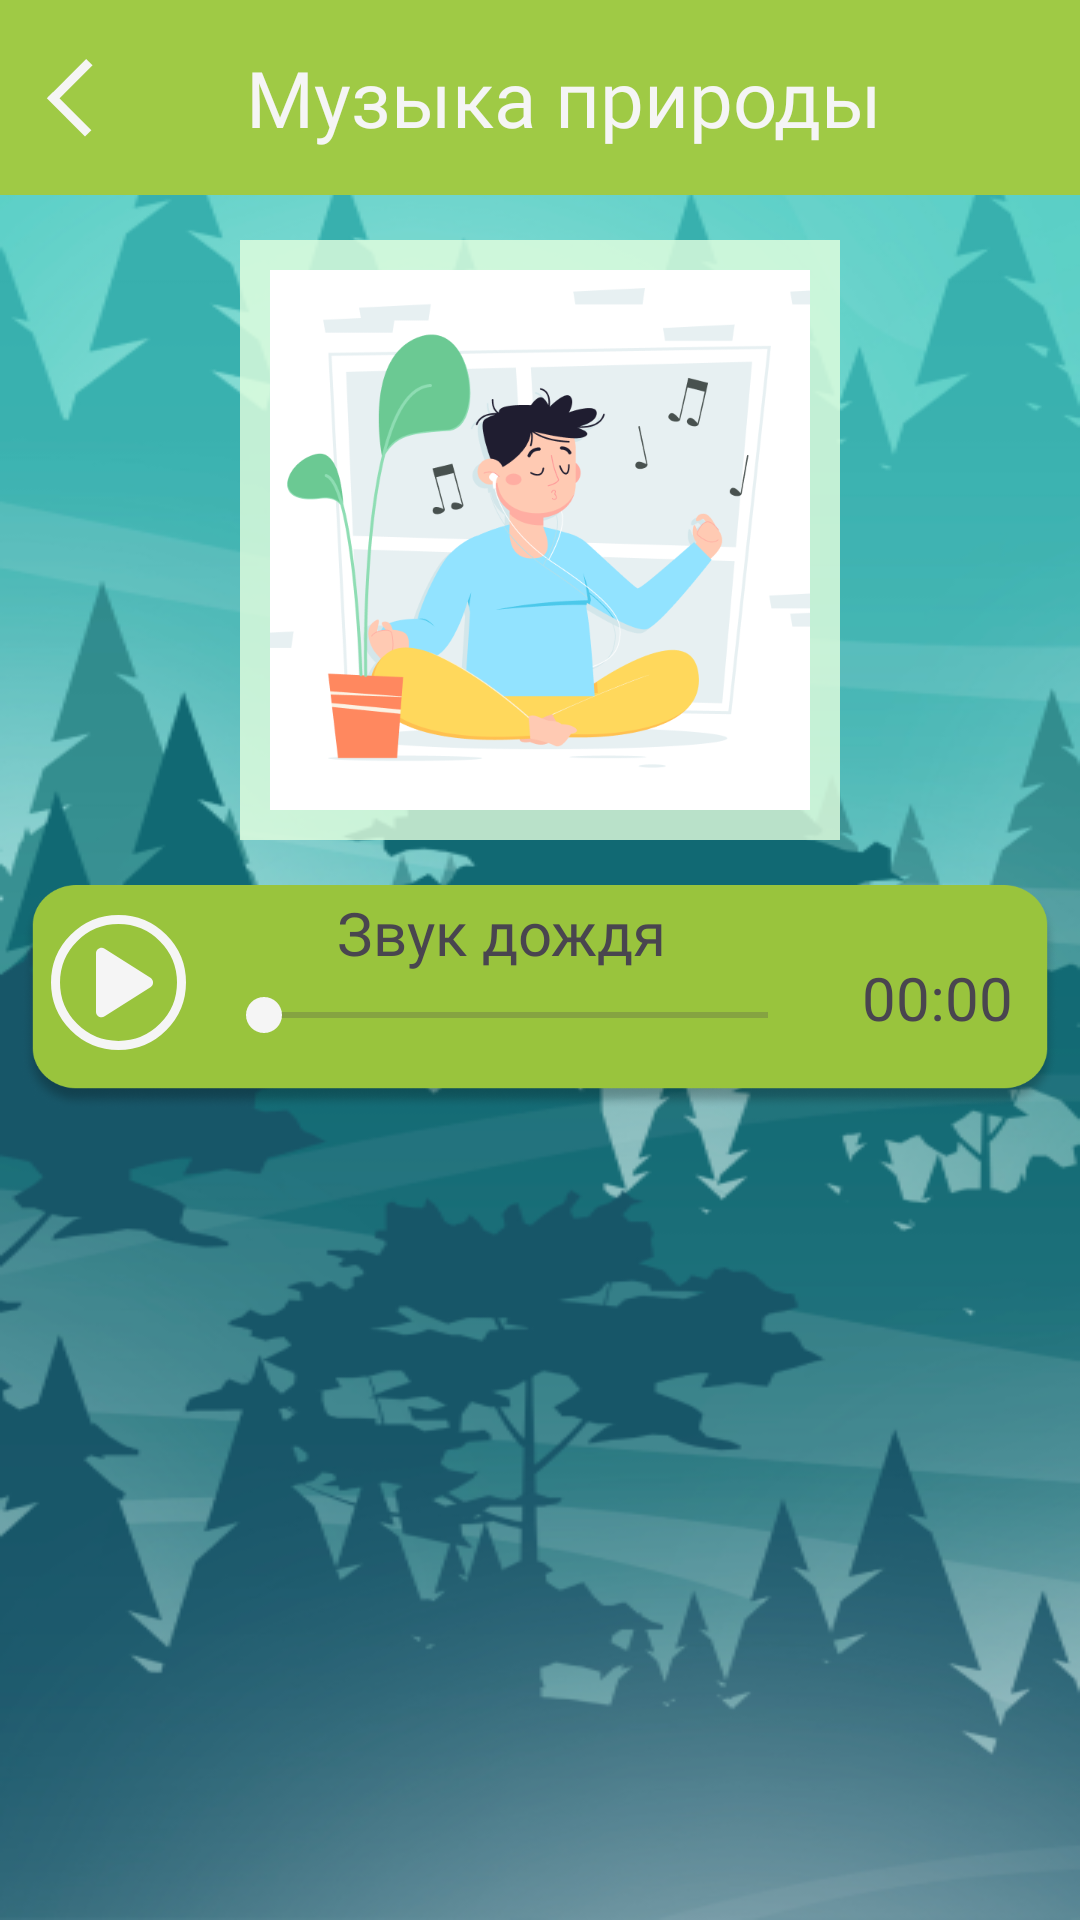

Icons on this 1080×1920 Android screen, each with its box as (x1, y1, x2, y2):
play arrow: (51, 915, 186, 1050)
